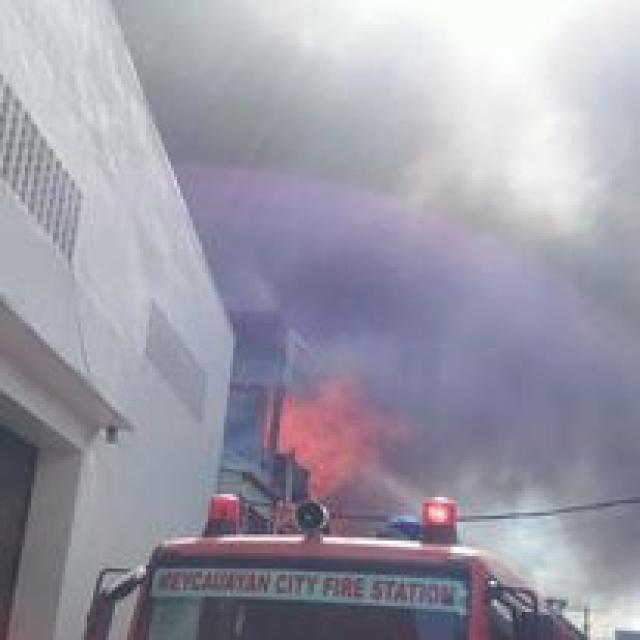Fire: (276, 390, 406, 494)
Smoke: (188, 37, 561, 318), (393, 272, 640, 476)
